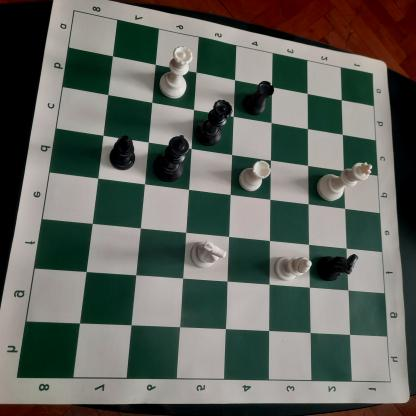black-bishop: (107, 133, 138, 171)
black-king: (150, 133, 192, 184)
black-knight: (315, 250, 364, 283)
black-queen: (192, 98, 234, 149)
black-rook: (240, 77, 278, 118)
white-bishop: (271, 255, 312, 281)
white-king: (313, 160, 375, 203)
white-knight: (187, 237, 230, 271)
white-queen: (155, 45, 195, 101)
white-rook: (236, 158, 274, 192)
